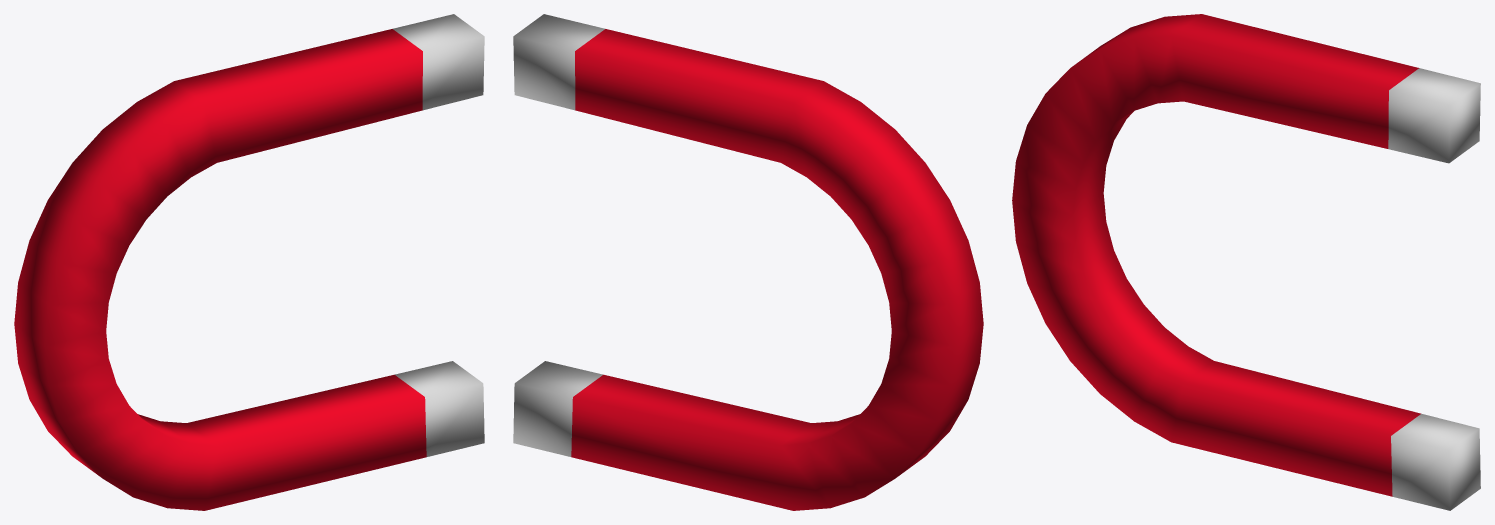
The model's file is 01_texture.glb.
The picture shows the model from 3 angles, left to right: view 1: azimuth 30°, elevation 25°; view 2: azimuth 150°, elevation 25°; view 3: azimuth 330°, elevation 25°; orthographic projection.
Visible parts, largest first — view 1: Circle; view 2: Circle; view 3: Circle.
Part boxes in pixels (x1,y1,x2,y2): Circle: (14, 14, 484, 510); Circle: (513, 14, 983, 510); Circle: (1012, 14, 1480, 510).
Bounding box in the file's own units: 3.66 × 3.24 × 0.441.
